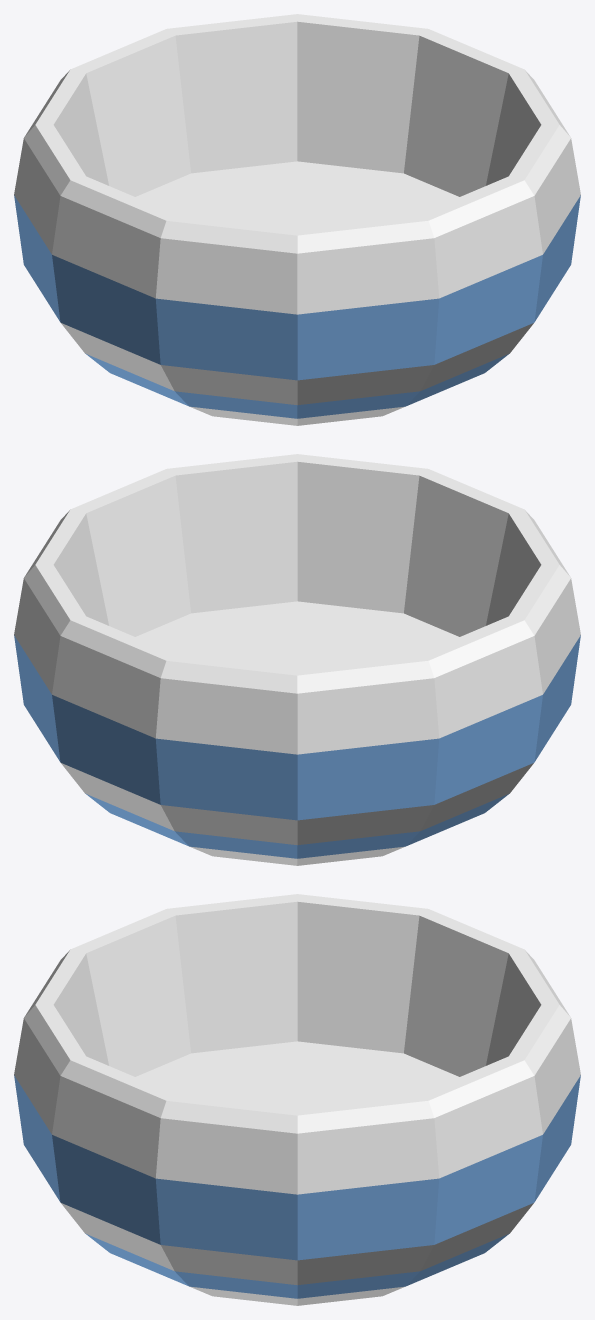
The model's file is Deep Dish_4.fbx.
The picture shows the model from 3 angles, top to bottom: view 1: azimuth 30°, elevation 25°; view 2: azimuth 150°, elevation 25°; view 3: azimuth 270°, elevation 25°; orthographic projection.
Parts seen in each view (by area): view 1: Deep Dish_4; view 2: Deep Dish_4; view 3: Deep Dish_4.
Boxes of the visible parts, x1,y1,x2,y2 form: Deep Dish_4: (14,14,580,425); Deep Dish_4: (14,454,580,865); Deep Dish_4: (14,894,580,1305).
Bounding box in the file's own units: 0.1778 × 0.0793 × 0.1778.
